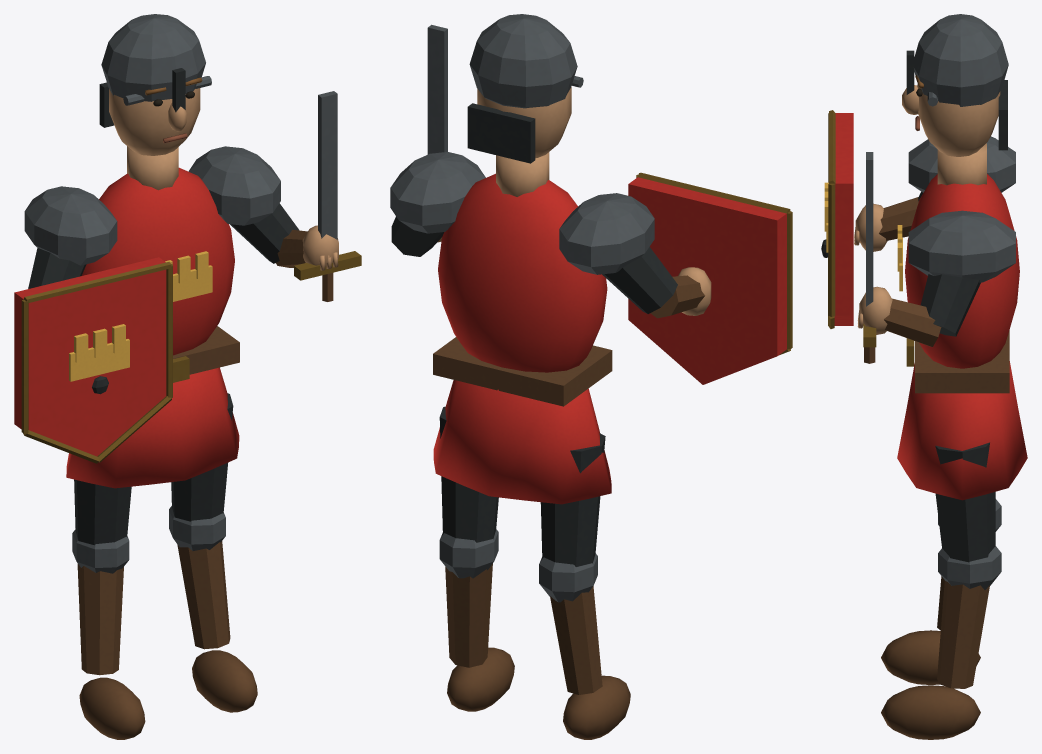
The model's file is SM_Espadachin_A_LOD0.fbx.
The picture shows the model from 3 angles, left to right: view 1: azimuth 30°, elevation 25°; view 2: azimuth 150°, elevation 25°; view 3: azimuth 270°, elevation 25°; orthographic projection. The views are drawn at different scales.
Visible parts, largest first — view 1: SM_Espadachin_A_LOD0; view 2: SM_Espadachin_A_LOD0; view 3: SM_Espadachin_A_LOD0.
Part boxes in pixels (x1=…): SM_Espadachin_A_LOD0: x1=14, y1=14, x2=361, y2=739; SM_Espadachin_A_LOD0: x1=390, y1=14, x2=792, y2=739; SM_Espadachin_A_LOD0: x1=821, y1=14, x2=1027, y2=739.
Bounding box in the file's own units: 0.2206 × 0.411 × 0.1113.
1 material, 1 textured.
